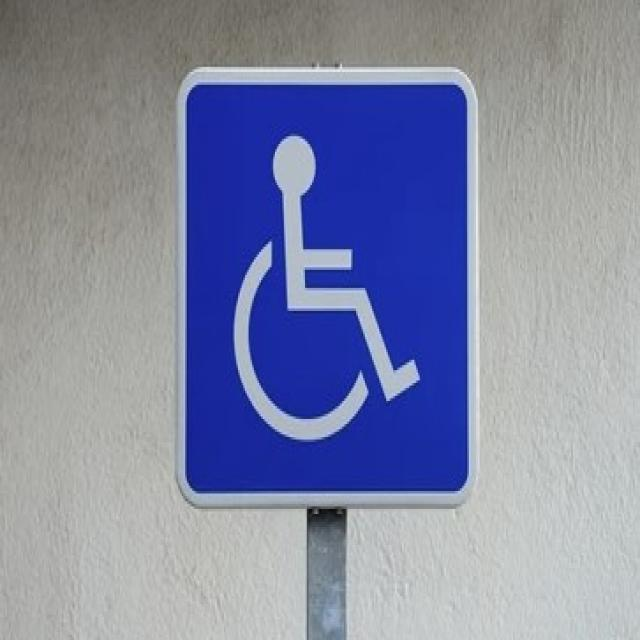symbol_of_access: (172, 64, 478, 507)
